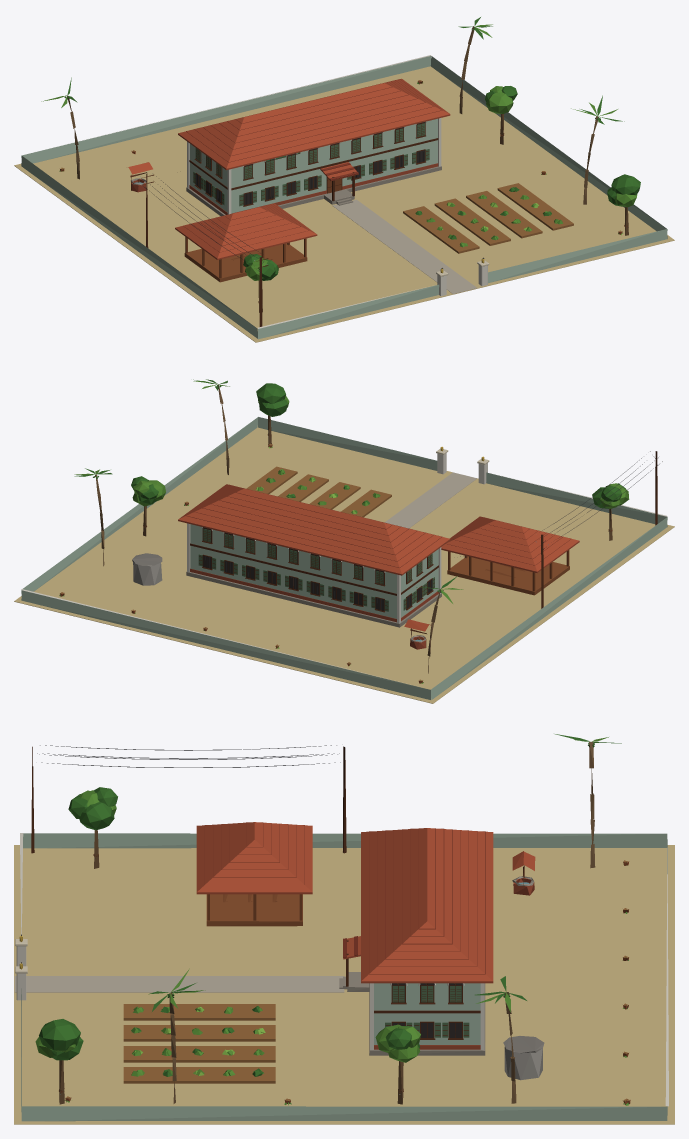
The model's file is hospital.glb.
3 renders of one model, top to bottom at view 1: azimuth 30°, elevation 25°; view 2: azimuth 150°, elevation 25°; view 3: azimuth 270°, elevation 25°, orthographic. The views are drawn at different scales.
Parts seen in each view (by area): view 1: body, windows; view 2: body, windows; view 3: body, windows.
Boxes of the visible parts, x1,y1,x2,y2 form: body: (14,17,674,342); windows: (196,121,484,273); body: (14,379,674,703); windows: (202,446,484,610); body: (14,734,674,1124); windows: (19,936,462,1037).
Size of the model in its own units: 48.42 by 10.86 by 47.9.
